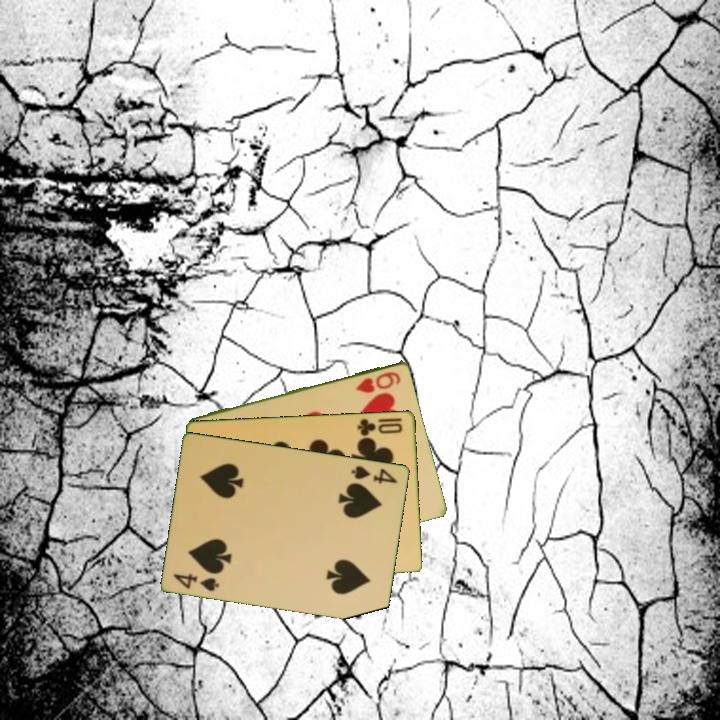10c: (354, 415, 406, 438)
4s: (348, 462, 400, 486), (170, 570, 222, 594)
6h: (352, 368, 404, 396)
